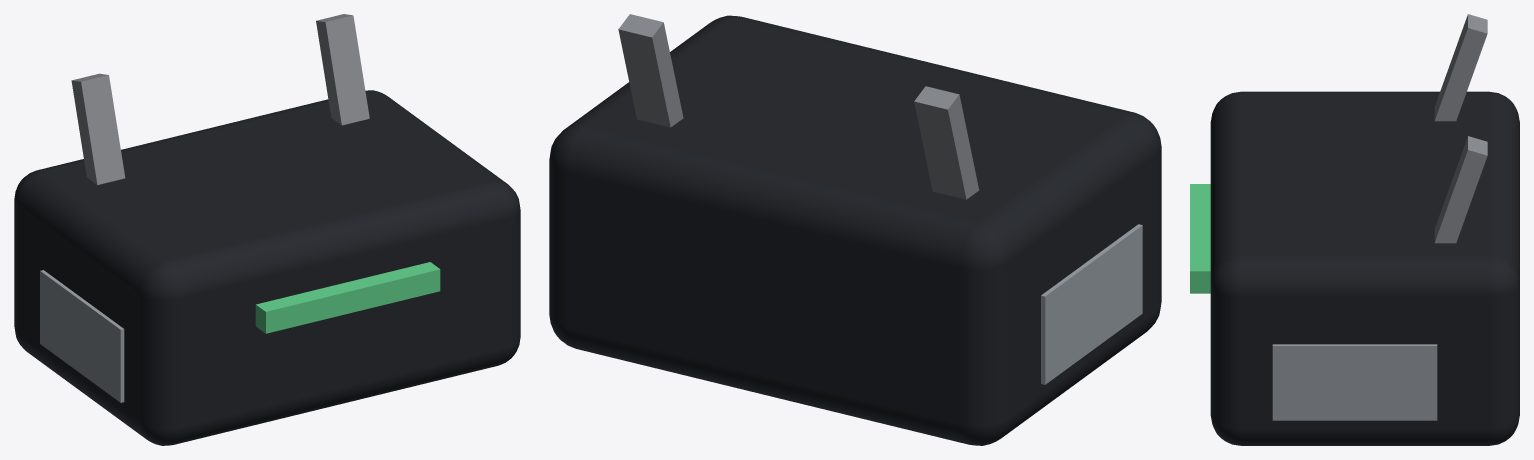
File: router.glb
3 renders of one model, left to right at view 1: azimuth 30°, elevation 25°; view 2: azimuth 150°, elevation 25°; view 3: azimuth 270°, elevation 25°, orthographic. The views are drawn at different scales.
Parts seen in each view (by area): view 1: material-0-body, material-3-metal, material-1-grating, material-2-screen; view 2: material-0-body, material-3-metal, material-1-grating; view 3: material-0-body, material-1-grating, material-3-metal, material-2-screen.
Part boxes in pixels (x1,y1,x2,y2): material-0-body: (14, 90, 520, 445); material-3-metal: (71, 14, 369, 184); material-1-grating: (40, 270, 124, 402); material-2-screen: (255, 262, 440, 333); material-0-body: (549, 15, 1161, 445); material-3-metal: (618, 14, 979, 199); material-1-grating: (1041, 224, 1142, 384); material-0-body: (1210, 91, 1519, 445); material-1-grating: (1272, 344, 1437, 420); material-3-metal: (1434, 14, 1487, 243); material-2-screen: (1190, 184, 1210, 293).
Bounding box in the file's own units: 0.22 × 0.15 × 0.16.
